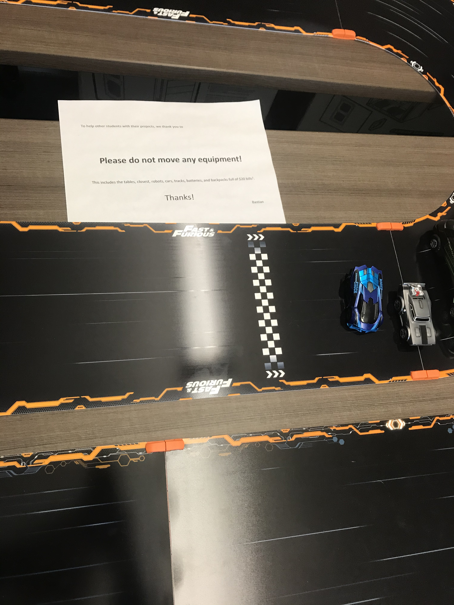Charger: (397, 276, 440, 348)
Finish Line: (246, 233, 289, 379)
Shock: (343, 264, 385, 333)
